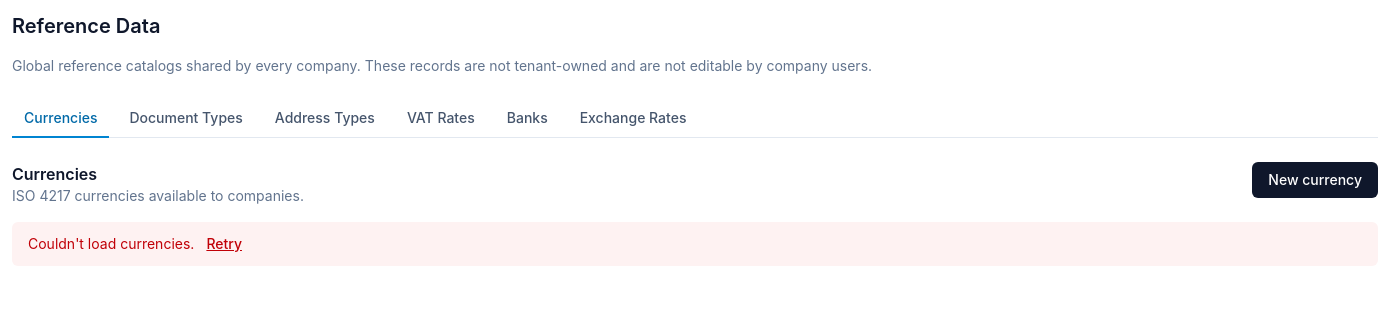
Test: AdminReferenceDataPage › shows an error state and retries
The width and height of the screenshot is (1390, 318).
Check: the message shows "Couldn't load currencies.", box 12,222 -> 1378,266
Click the button "Retry" at (224, 244), box 206,234 -> 242,254
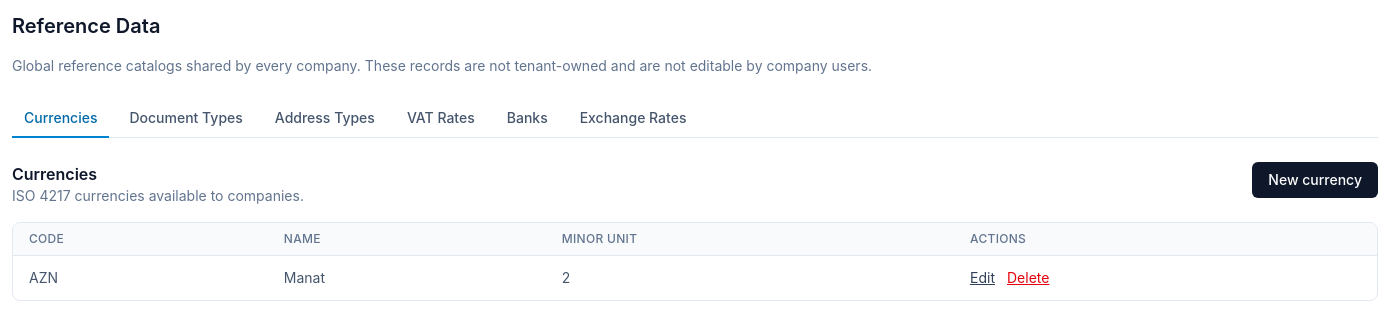
Check: the text "AZN" is shown, box 13,256 -> 268,300
